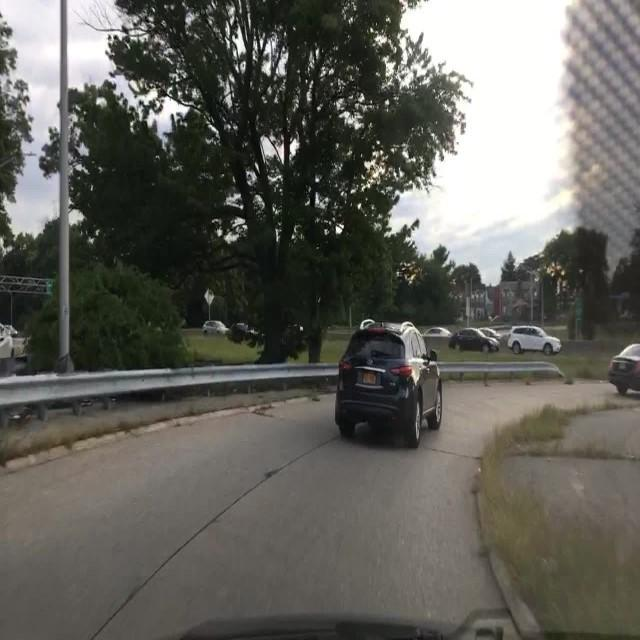normal: (320, 289, 450, 464), (492, 316, 570, 367)
